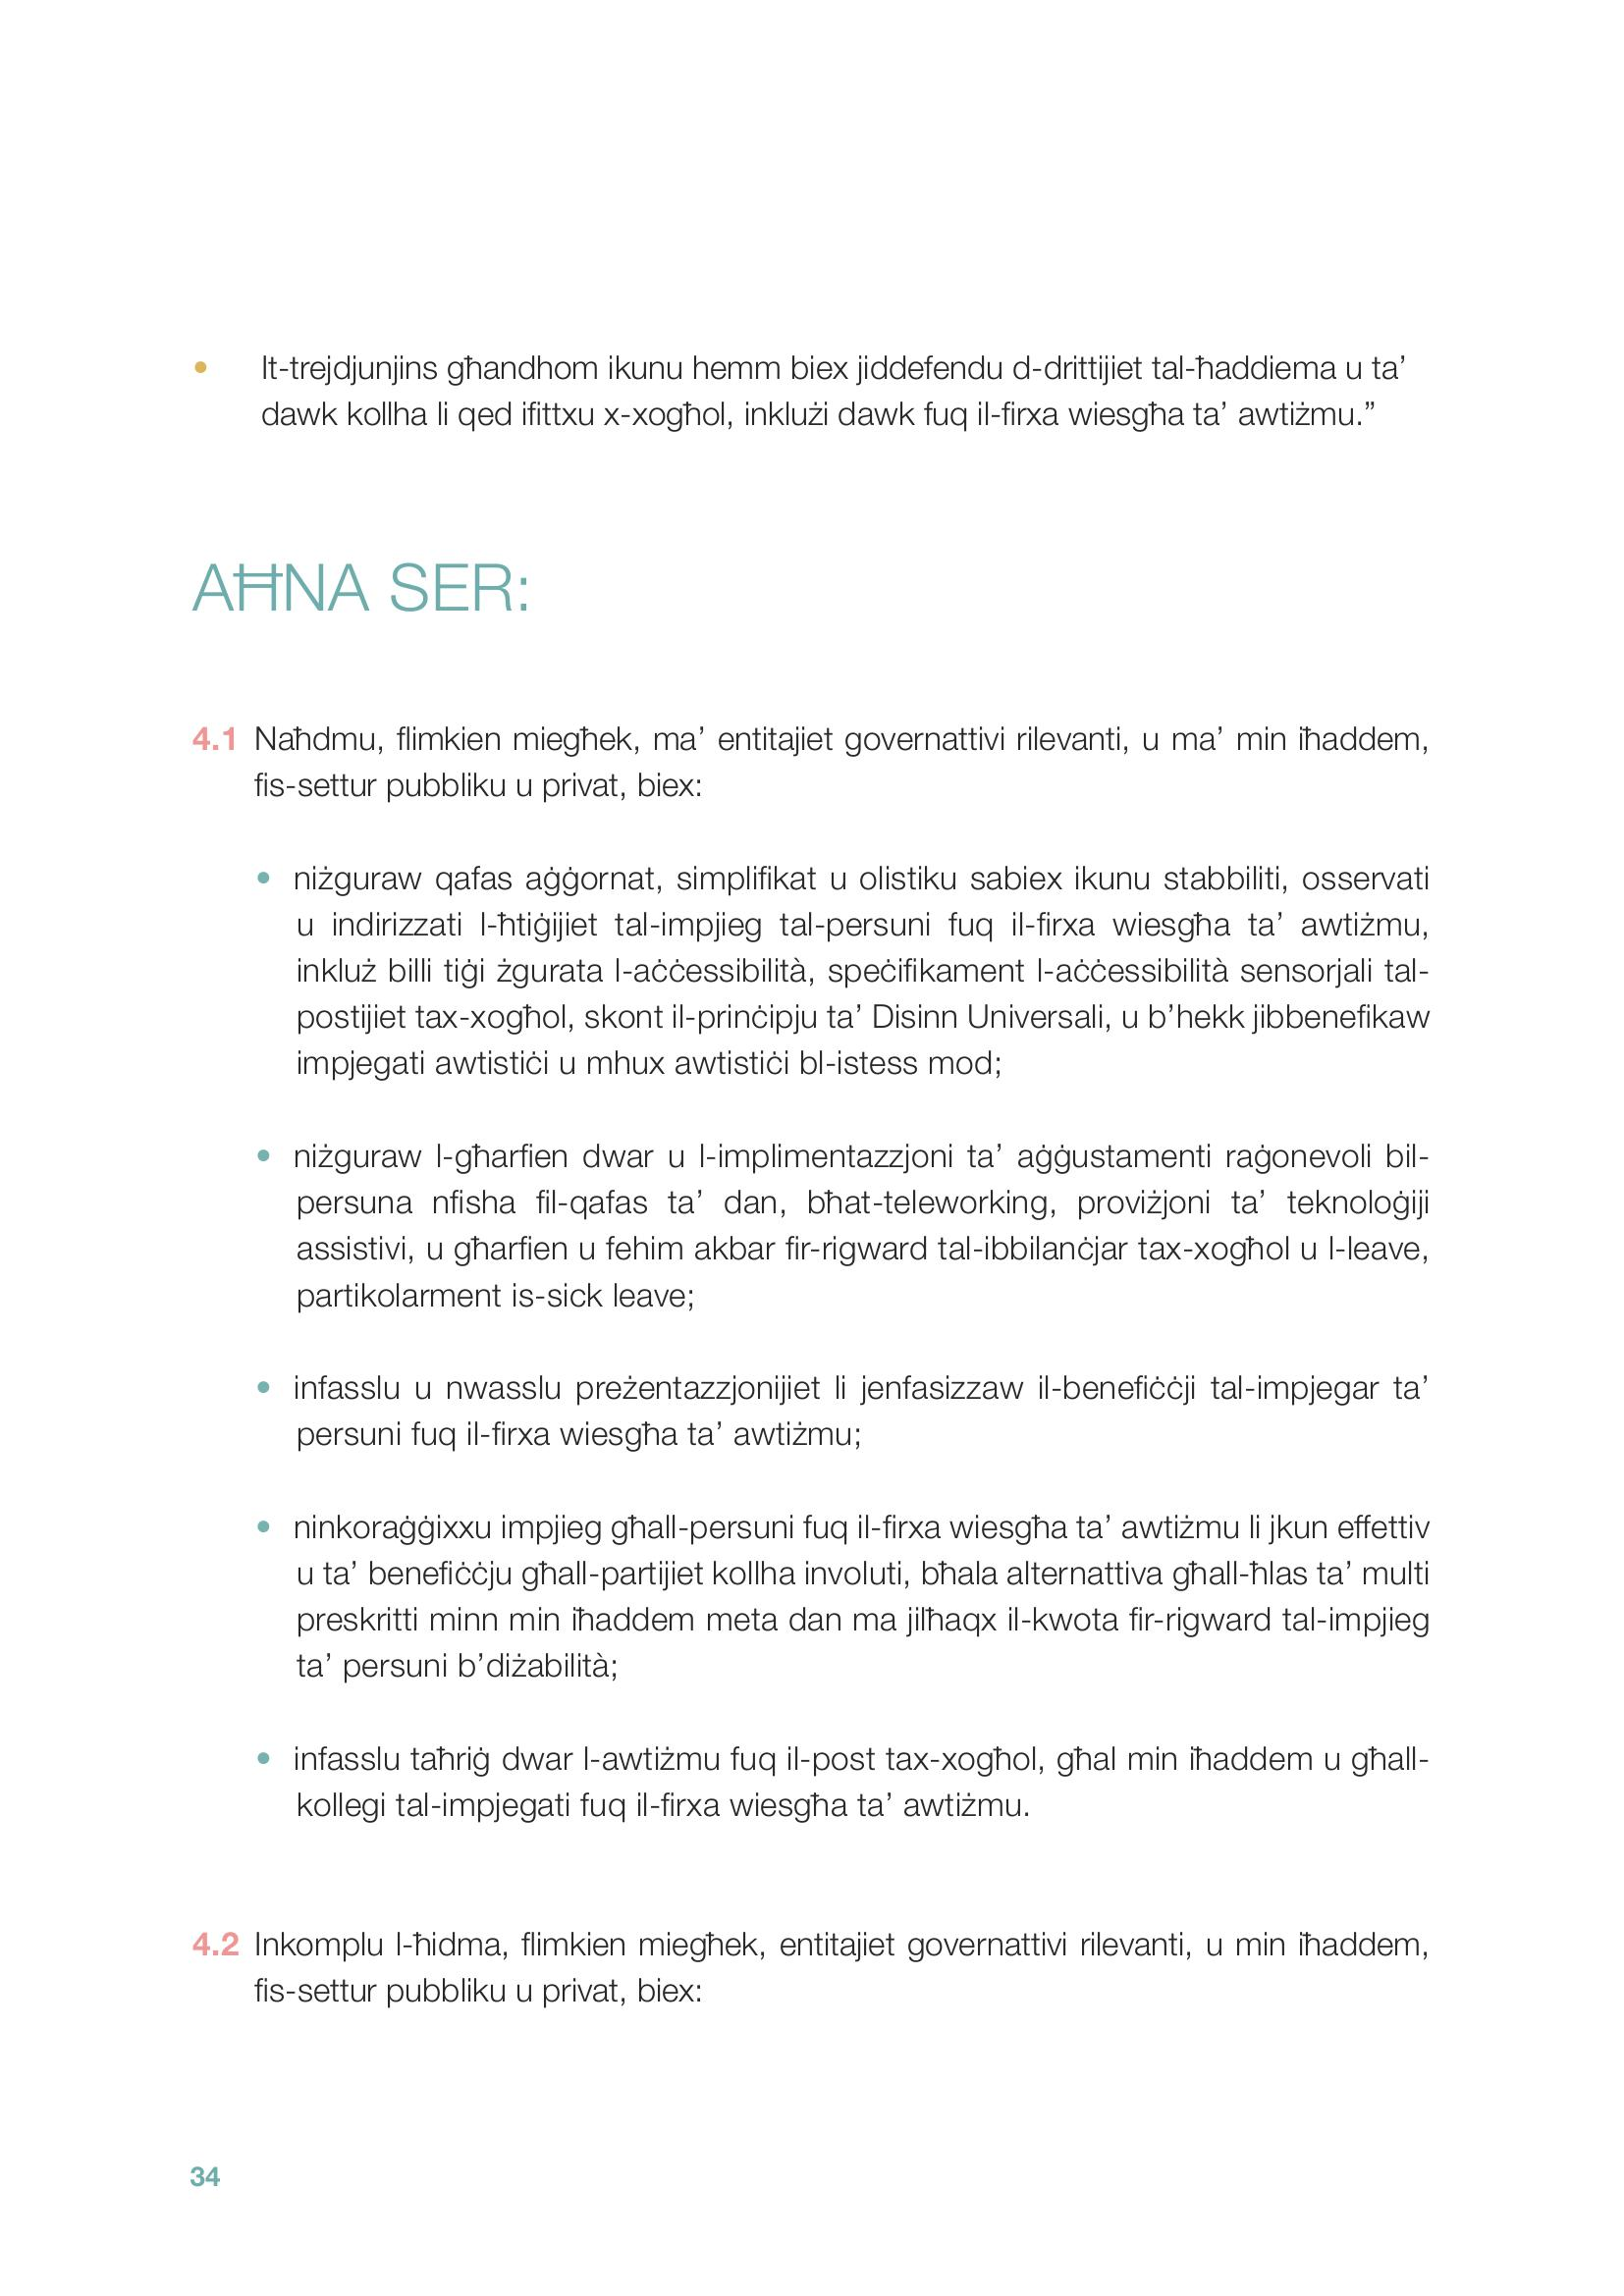text: (148, 321, 1454, 2054)
